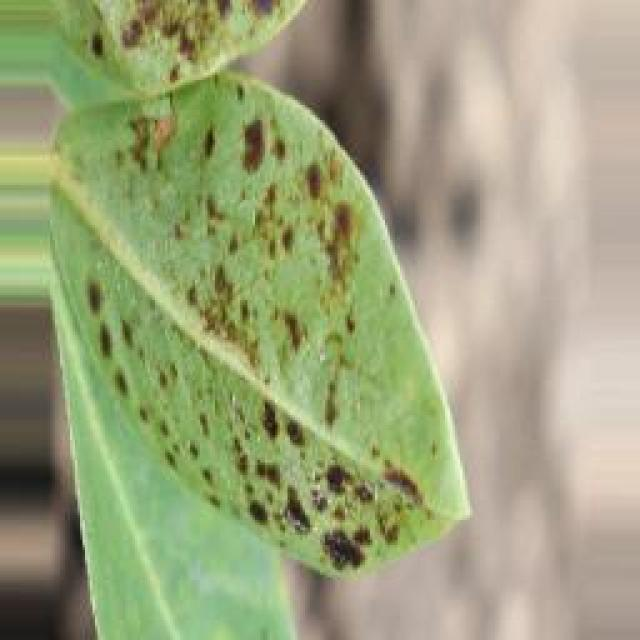Whitefly: (75, 0, 469, 597)
